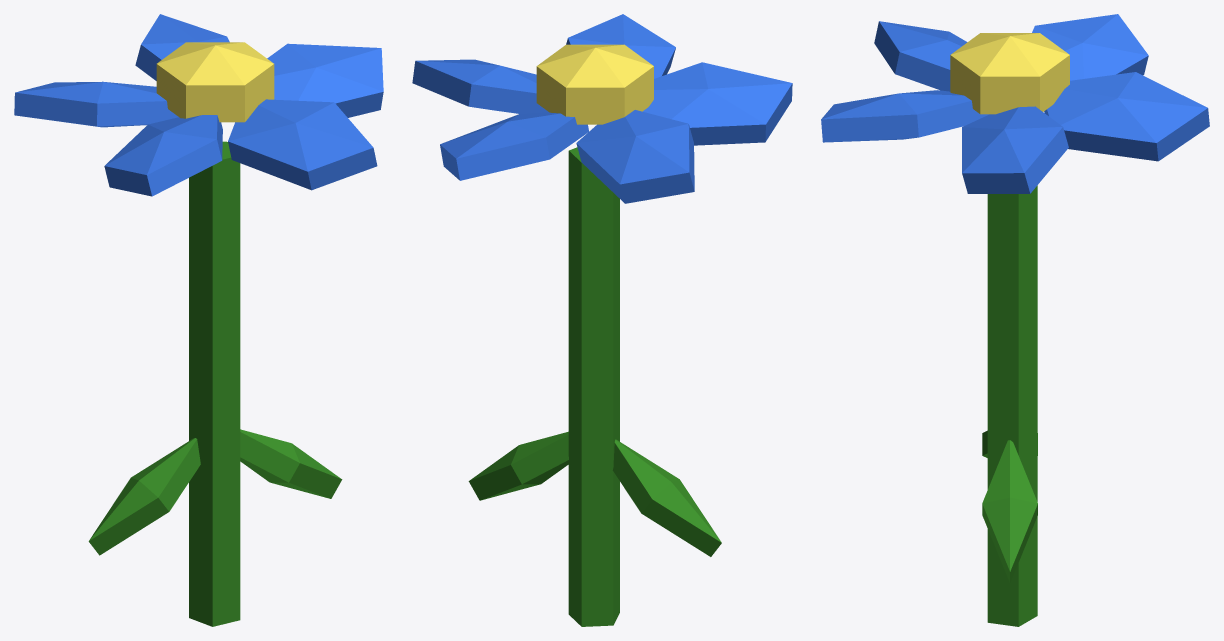
Rendered from flower_blue.glb.
The picture shows the model from 3 angles, left to right: view 1: azimuth 30°, elevation 25°; view 2: azimuth 150°, elevation 25°; view 3: azimuth 270°, elevation 25°; orthographic projection.
Visible parts, largest first — view 1: Cylinder; view 2: Cylinder; view 3: Cylinder.
Boxes of the visible parts, x1,y1,x2,y2 form: Cylinder: [14, 14, 383, 626]; Cylinder: [412, 14, 792, 626]; Cylinder: [821, 14, 1209, 626].
Bounding box in the file's own units: 0.2477 × 0.417 × 0.2535.
